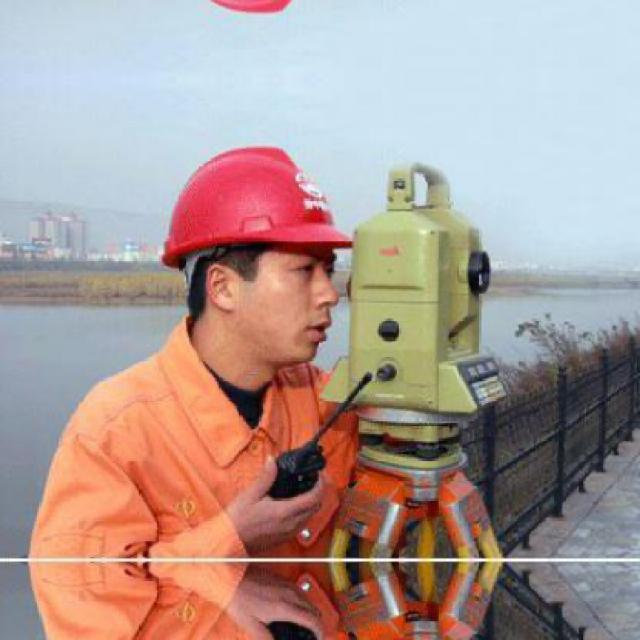helmet: (137, 126, 366, 394)
